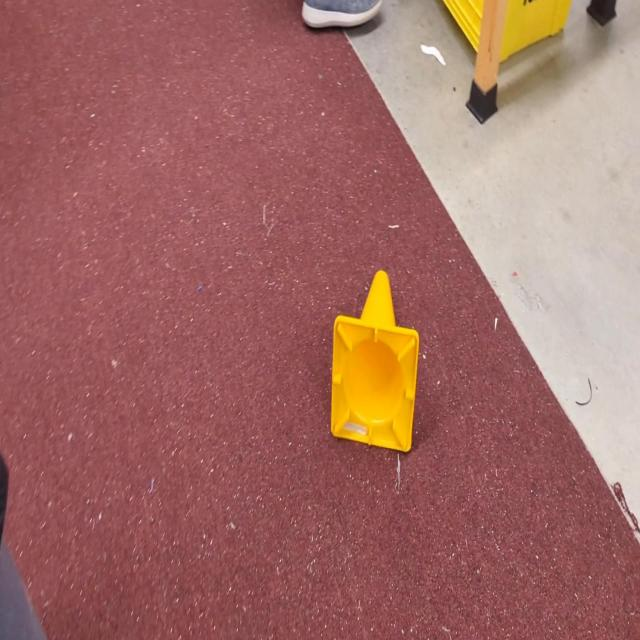frc_cone: (330, 271, 420, 451)
